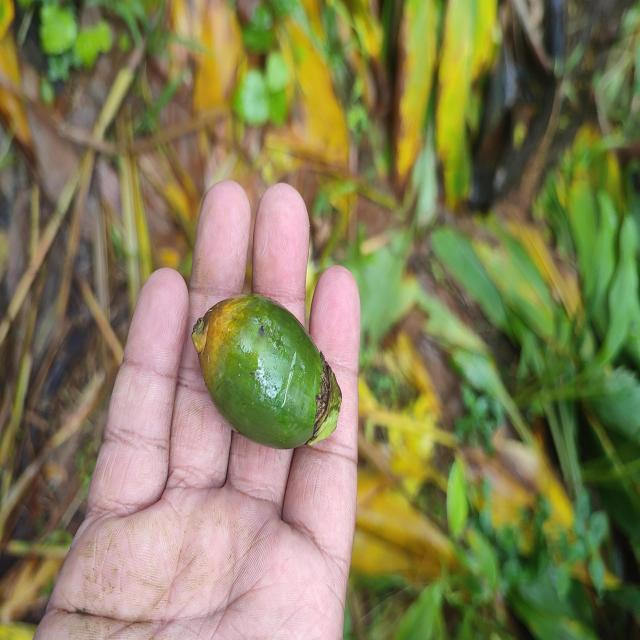good: (189, 295, 342, 452)
